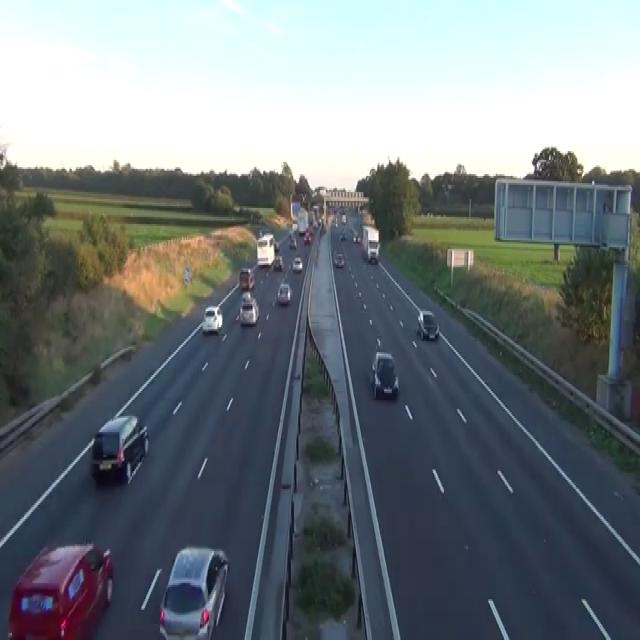Car: (7, 540, 113, 638), (159, 546, 229, 638), (90, 412, 149, 483), (370, 350, 399, 398), (415, 310, 439, 340), (202, 304, 222, 334), (238, 297, 259, 325), (239, 266, 254, 290), (276, 283, 292, 304), (367, 238, 379, 263), (264, 233, 279, 252), (240, 290, 253, 304), (333, 250, 344, 266), (292, 256, 302, 272), (273, 254, 283, 270), (303, 230, 312, 243), (258, 226, 269, 236), (289, 236, 297, 249), (352, 233, 361, 242), (339, 229, 346, 240), (274, 240, 279, 252), (292, 221, 298, 231), (288, 228, 294, 238), (341, 213, 346, 224), (258, 228, 263, 238), (319, 226, 325, 234), (334, 217, 338, 227), (318, 217, 322, 226)
Truck: (361, 224, 380, 263), (256, 233, 275, 267), (297, 208, 308, 235)
